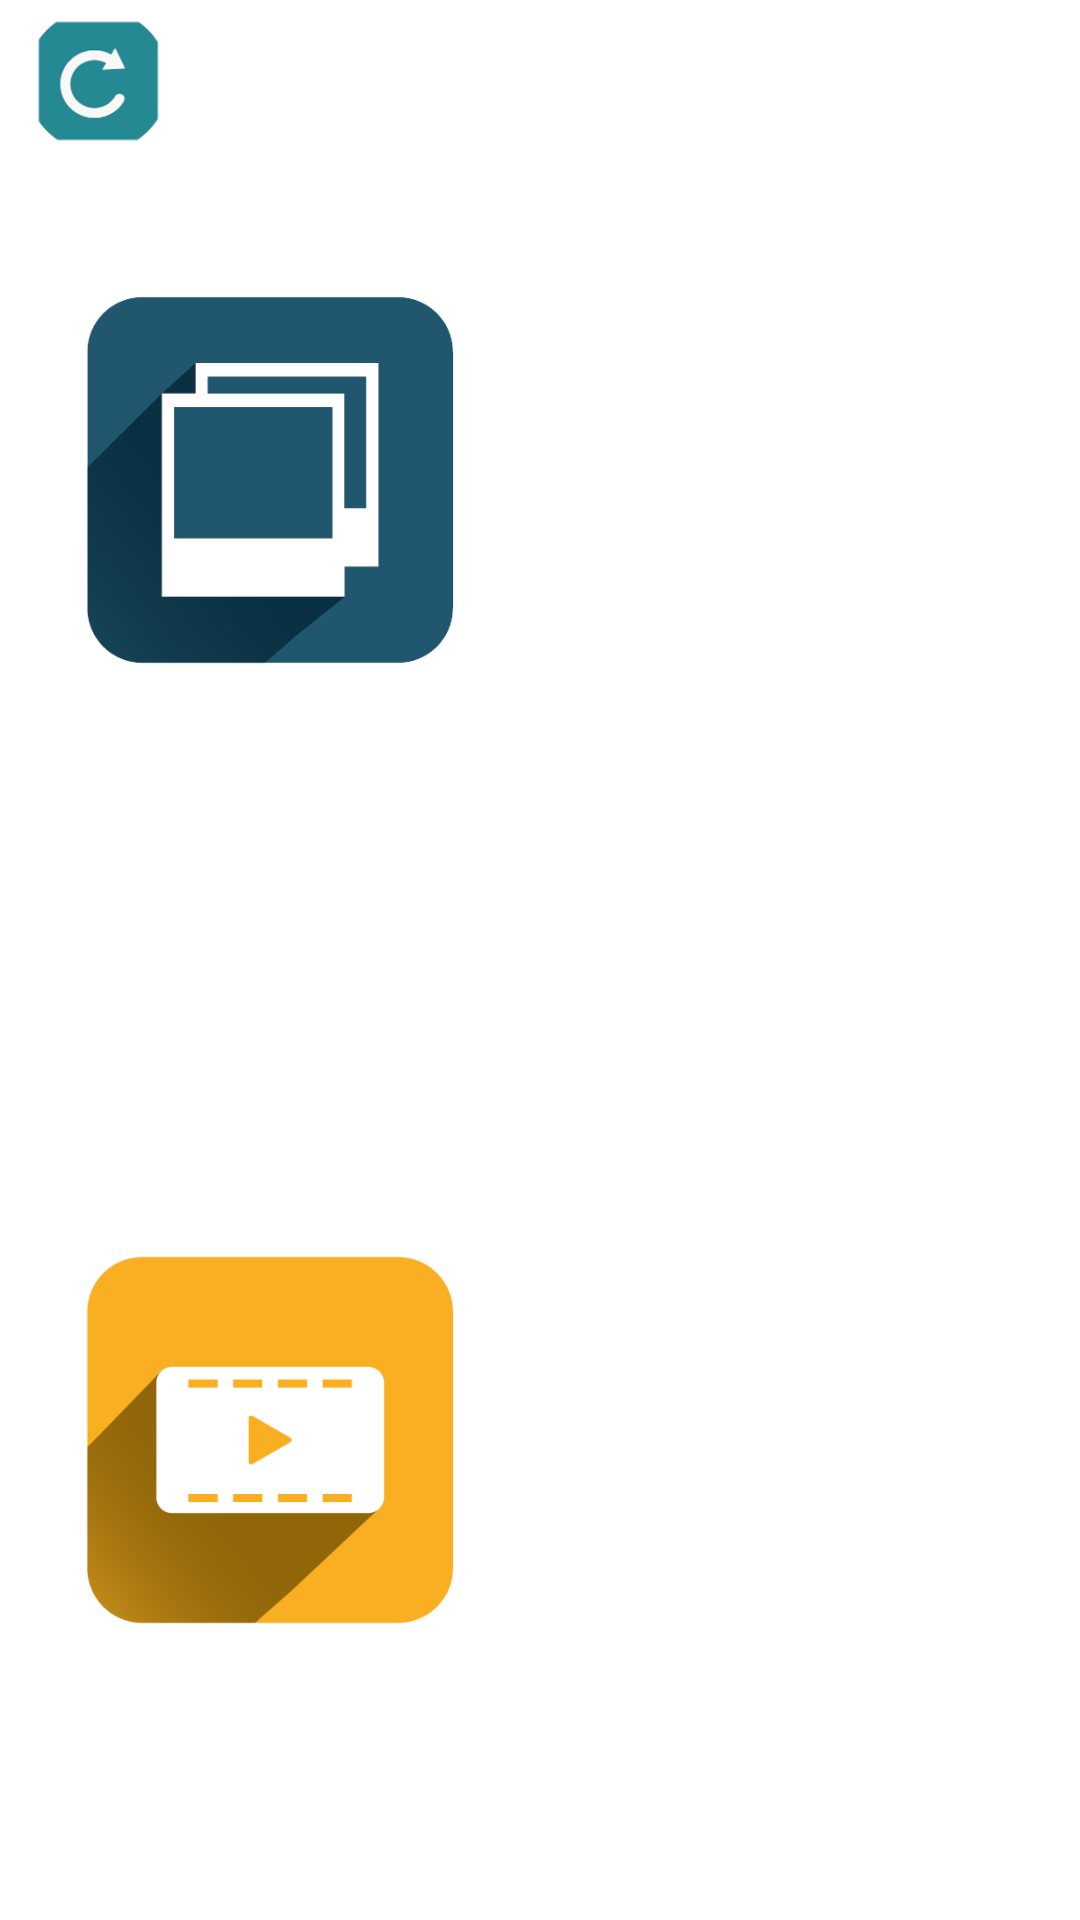

Icon click points for this 1080*1920 phone screenshot, format (x=x, y=y):
play return click: (x=98, y=81)
